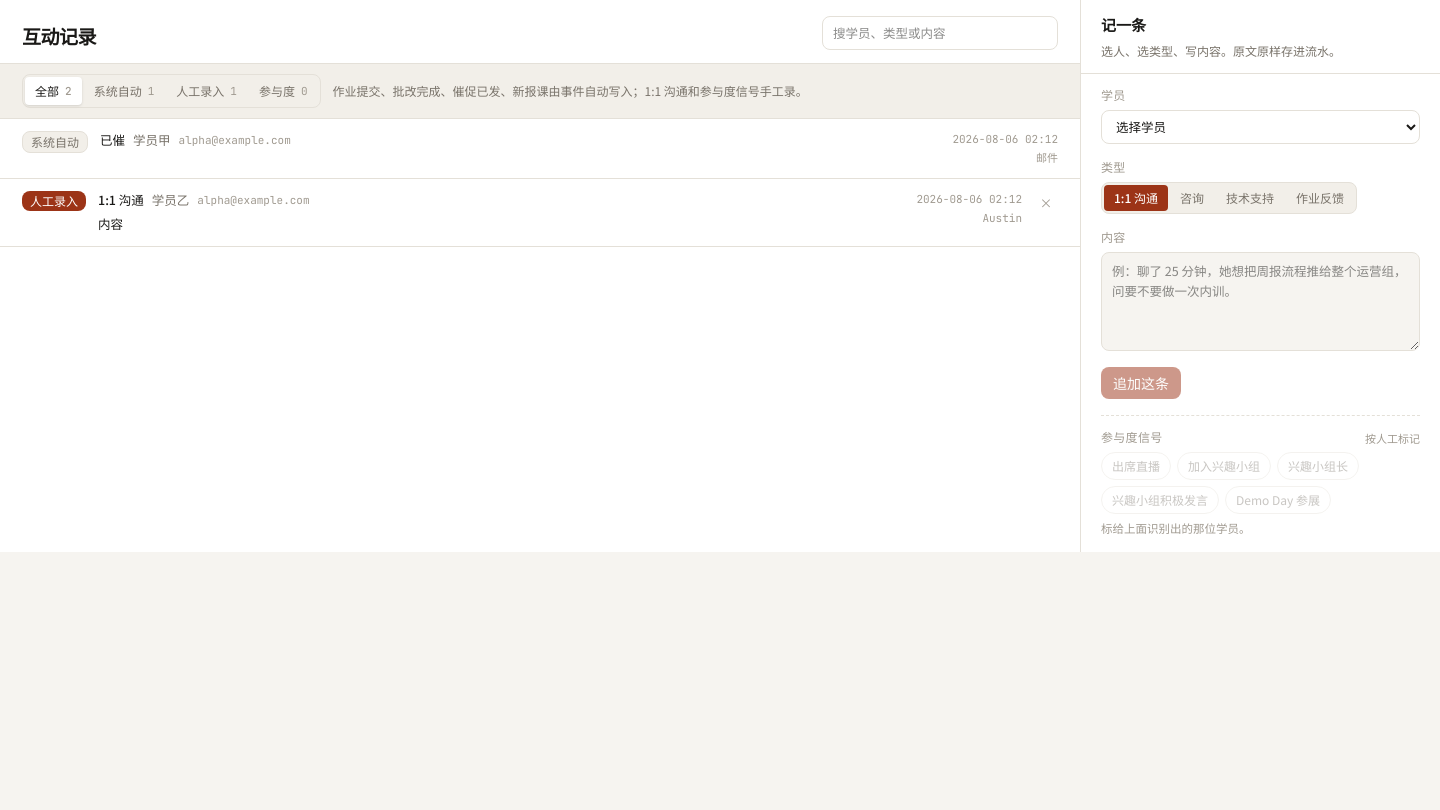
Test: 按来源 tab 筛选 › 点击「人工录入」后只显示人工录入类型的记录
The image size is (1440, 810).
Click the button "人工录入 1".
click(207, 91)  # box [166,77,247,105]
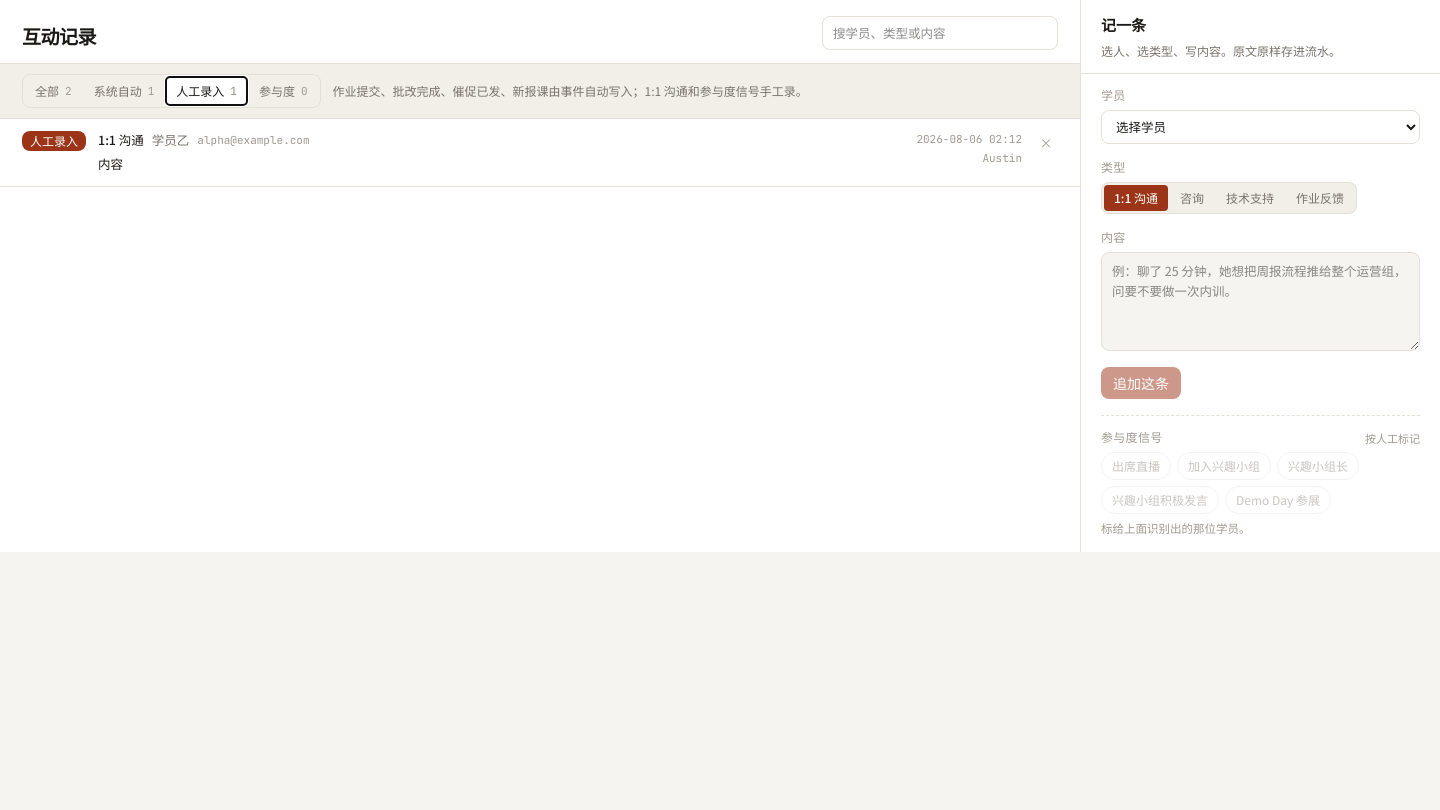
Result: the element with test id "^interaction-row-" shows "学员乙" at [152,130,189,149]
